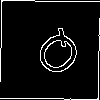Q: (25, 25, 87, 87)
